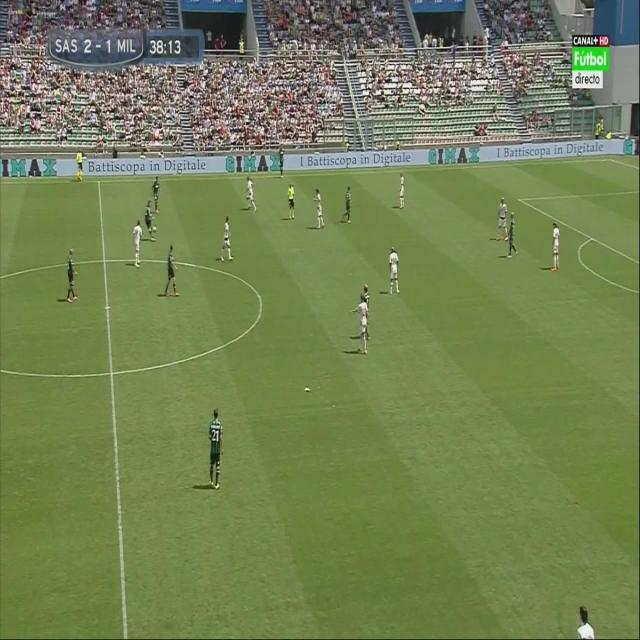Ball: (152, 223, 158, 235)
Player: (208, 406, 225, 494), (349, 293, 370, 358), (161, 244, 180, 301), (64, 243, 78, 306), (218, 215, 235, 266), (131, 218, 144, 272), (506, 211, 520, 261), (549, 219, 562, 272), (388, 244, 401, 297), (495, 197, 509, 244), (312, 188, 326, 230), (142, 197, 154, 244), (244, 174, 258, 213), (151, 173, 162, 218), (341, 184, 353, 225), (398, 170, 406, 212)
Referee: (286, 181, 297, 224), (74, 147, 85, 185)
